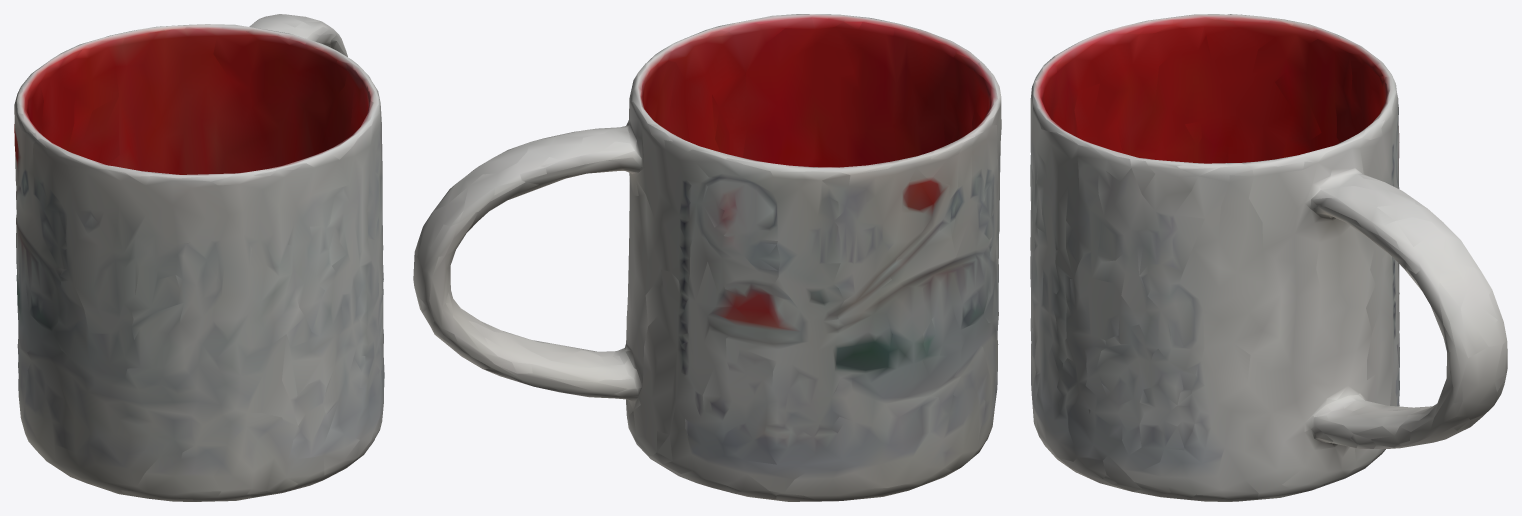
File: 0001_mask_002_mug.glb
3 renders of one model, left to right at view 1: azimuth 30°, elevation 25°; view 2: azimuth 150°, elevation 25°; view 3: azimuth 270°, elevation 25°, orthographic.
Visible parts, largest first — view 1: mask_002_object; view 2: mask_002_object; view 3: mask_002_object.
Boxes of the visible parts, <box> form: mask_002_object: <box>14,14,384,501</box>; mask_002_object: <box>413,14,1001,501</box>; mask_002_object: <box>1030,14,1507,501</box>.
Bounding box in the file's own units: 0.2359 × 0.1769 × 0.2225.
